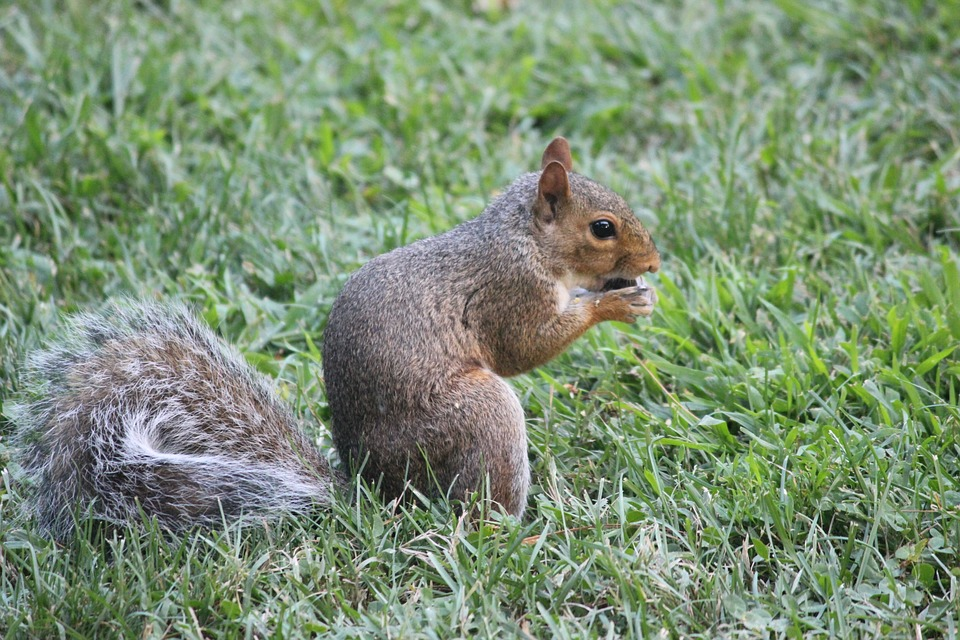squirrel: (25, 130, 664, 512)
